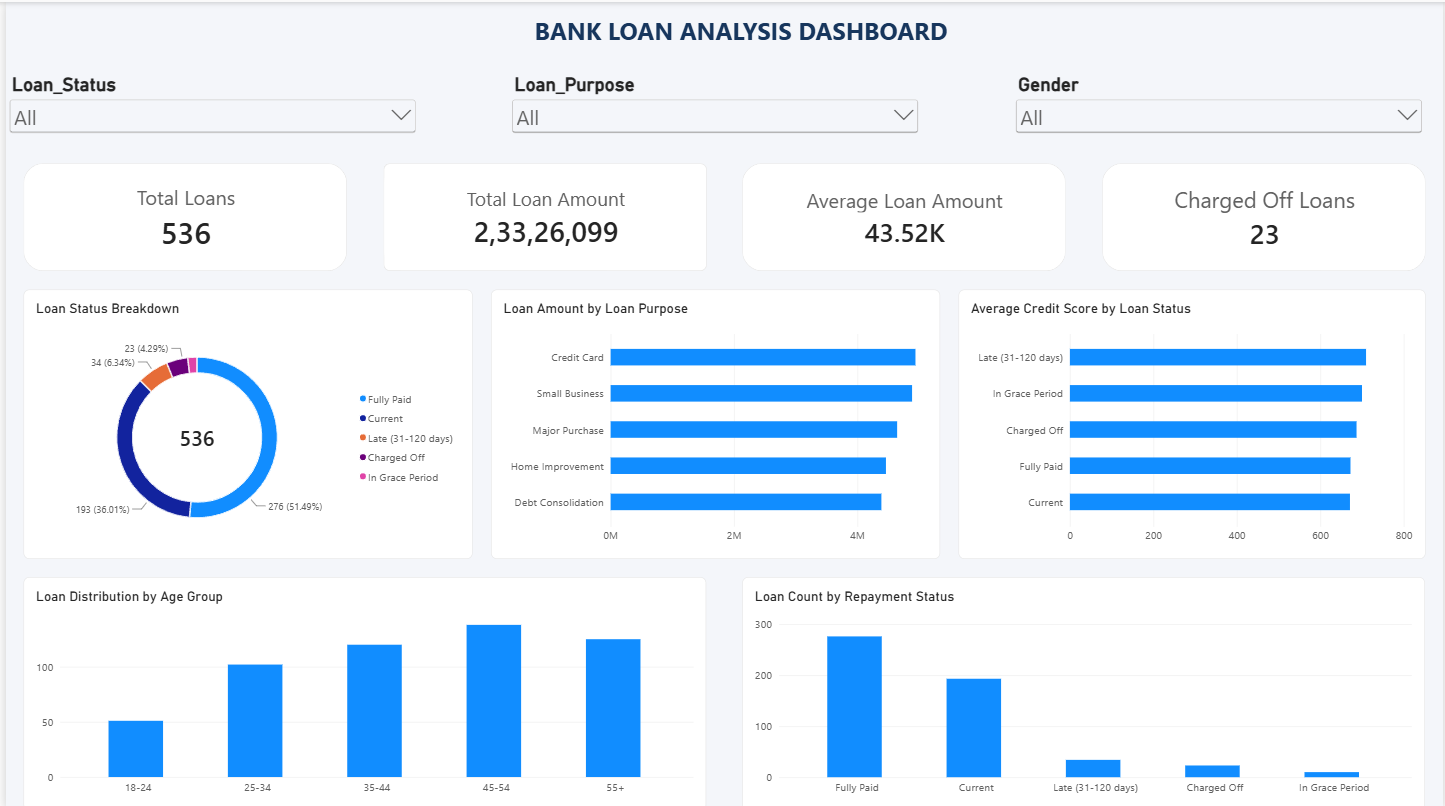

Layout of this report page (visuals, bound fields, positions):
{"tool":"powerbi","page":{"name":"Page 1","canvas":[1920,1080],"ordinal":0},"visuals":[{"type":"cardVisual","fields":{"Data":["Clean_Bank_Loan_Data.Total Loans"]},"box":[24,216,432,144],"z":0},{"type":"cardVisual","fields":{"Data":["Clean_Bank_Loan_Data.Total Loan Amount"]},"box":[504,216,432,144],"z":1},{"type":"cardVisual","fields":{"Data":["Clean_Bank_Loan_Data.Average Loan Amount"]},"box":[984,216,432,144],"z":2},{"type":"cardVisual","fields":{"Data":["Clean_Bank_Loan_Data.Charged Off Loans"]},"box":[1464,216,432,144],"z":3},{"type":"donutChart","title":"Loan Status Breakdown","fields":{"Category":["Clean_Bank_Loan_Data.Loan_Status"],"Y":["CountNonNull(Clean_Bank_Loan_Data.Loan_ID)"]},"box":[24,384,600,360],"z":4},{"type":"clusteredBarChart","title":"Loan Amount by Loan Purpose","fields":{"Category":["Clean_Bank_Loan_Data.Loan_Purpose"],"Y":["Sum(Clean_Bank_Loan_Data.Loan_Amount)"]},"box":[648,384,600,360],"z":5},{"type":"clusteredColumnChart","title":"Loan Count by Repayment Status","fields":{"Category":["Clean_Bank_Loan_Data.Loan_Status"],"Y":["CountNonNull(Clean_Bank_Loan_Data.Loan_ID)"]},"box":[983.5,768.1,911.7,312.2],"z":6},{"type":"clusteredBarChart","title":"Average Credit Score by Loan Status","fields":{"Category":["Clean_Bank_Loan_Data.Loan_Status"],"Y":["Avg(Clean_Bank_Loan_Data.Credit_Score)"]},"box":[1272,384,624,360],"z":7},{"type":"clusteredColumnChart","title":"Loan Distribution by Age Group","fields":{"Category":["Clean_Bank_Loan_Data.Age Group","Clean_Bank_Loan_Data.Age Group Sort"],"Y":["CountNonNull(Clean_Bank_Loan_Data.Loan_ID)"]},"box":[24,768,912,312],"z":8},{"type":"slicer","fields":{"Values":["Clean_Bank_Loan_Data.Gender"]},"box":[1344,96,552,96],"z":9},{"type":"slicer","fields":{"Values":["Clean_Bank_Loan_Data.Loan_Purpose"]},"box":[672,96,552,96],"z":10},{"type":"slicer","fields":{"Values":["Clean_Bank_Loan_Data.Loan_Status"]},"box":[0,96,552,96],"z":11},{"type":"textbox","box":[661.2,16.7,641.2,73.5],"z":12}]}

Visuals, with their boxes in screenshot pixels (x1, y1, x2, y2), scaled from the page's 1920x1080 canvas onto the 1445x806 screenshot:
cardVisual - Clean_Bank_Loan_Data.Total Loans: (18, 161, 343, 269)
cardVisual - Clean_Bank_Loan_Data.Total Loan Amount: (379, 161, 704, 269)
cardVisual - Clean_Bank_Loan_Data.Average Loan Amount: (741, 161, 1066, 269)
cardVisual - Clean_Bank_Loan_Data.Charged Off Loans: (1102, 161, 1427, 269)
"Loan Status Breakdown" donutChart: (18, 287, 470, 555)
"Loan Amount by Loan Purpose" clusteredBarChart: (488, 287, 939, 555)
"Loan Count by Repayment Status" clusteredColumnChart: (740, 573, 1426, 805)
"Average Credit Score by Loan Status" clusteredBarChart: (957, 287, 1427, 555)
"Loan Distribution by Age Group" clusteredColumnChart: (18, 573, 704, 805)
slicer - Clean_Bank_Loan_Data.Gender: (1012, 72, 1427, 143)
slicer - Clean_Bank_Loan_Data.Loan_Purpose: (506, 72, 921, 143)
slicer - Clean_Bank_Loan_Data.Loan_Status: (0, 72, 415, 143)
textbox: (498, 12, 980, 67)
